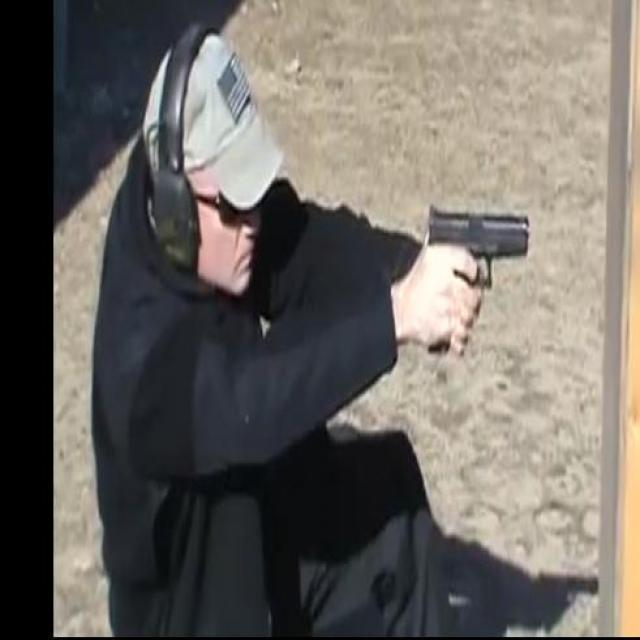gun: (419, 202, 534, 352)
